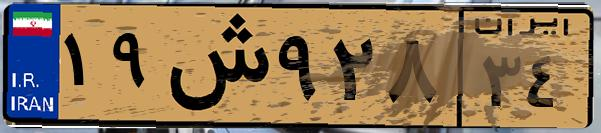1: (57, 26, 110, 100)
2: (330, 28, 385, 110)
3: (475, 38, 525, 113)
4: (525, 38, 570, 115)
8: (385, 28, 445, 110)
9: (270, 28, 330, 110), (110, 28, 158, 98)
ش: (158, 12, 270, 120)
